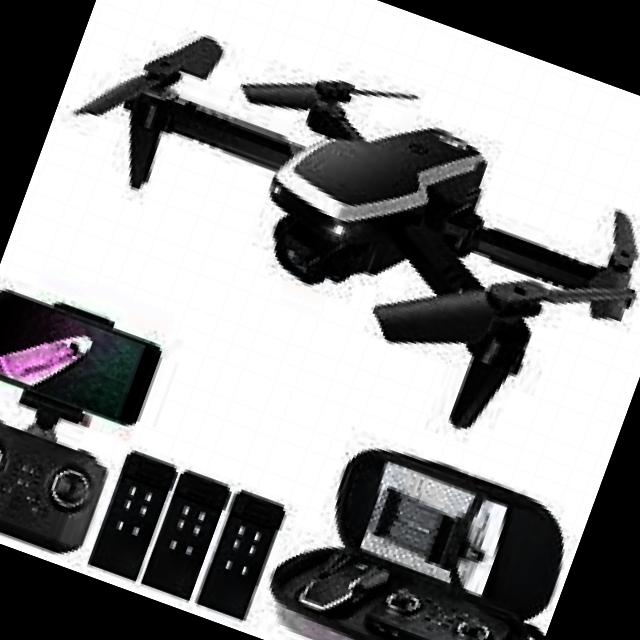drone: (17, 0, 640, 476)
